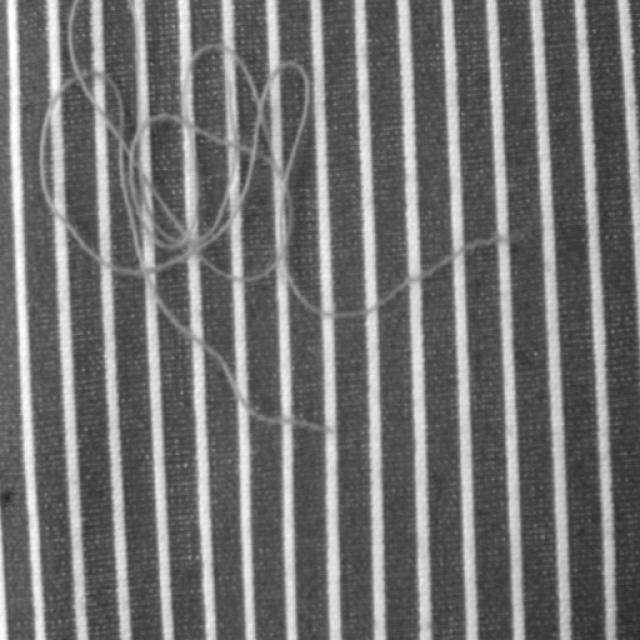Foreign-Body-Defect: (40, 0, 336, 434), (280, 232, 514, 319)
